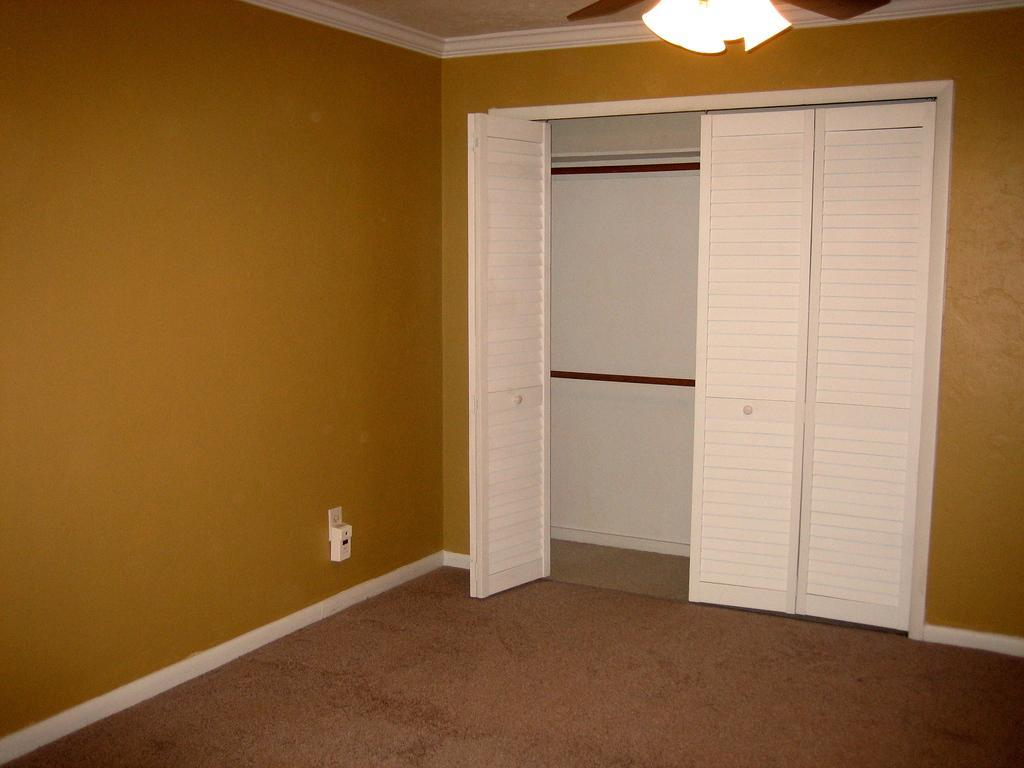door: (710, 118, 796, 609), (473, 116, 551, 575)
handle: (511, 385, 529, 410), (736, 406, 758, 424)
